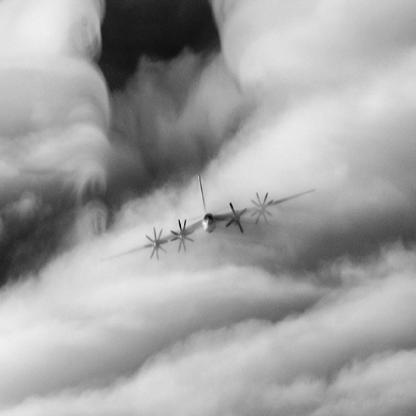Tu95: (100, 174, 316, 262)
